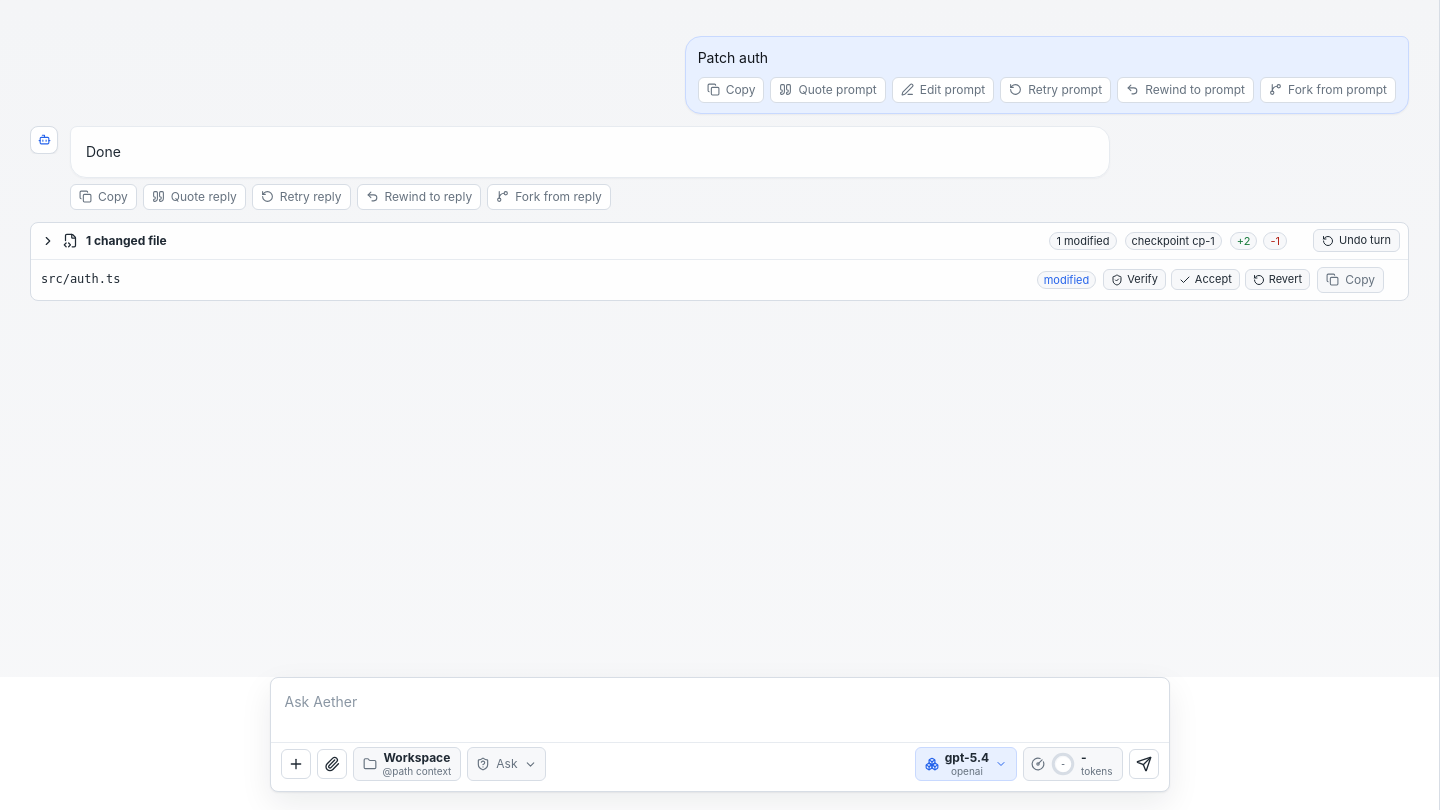
Scenario: ChatView › retries persisted prompts through checkpoint-aware session actions
Expected: the text "Patch auth" is shown, [698,49,768,66]
Click the button "Retry prompt" at (1056, 90), box [1000,77,1111,103]
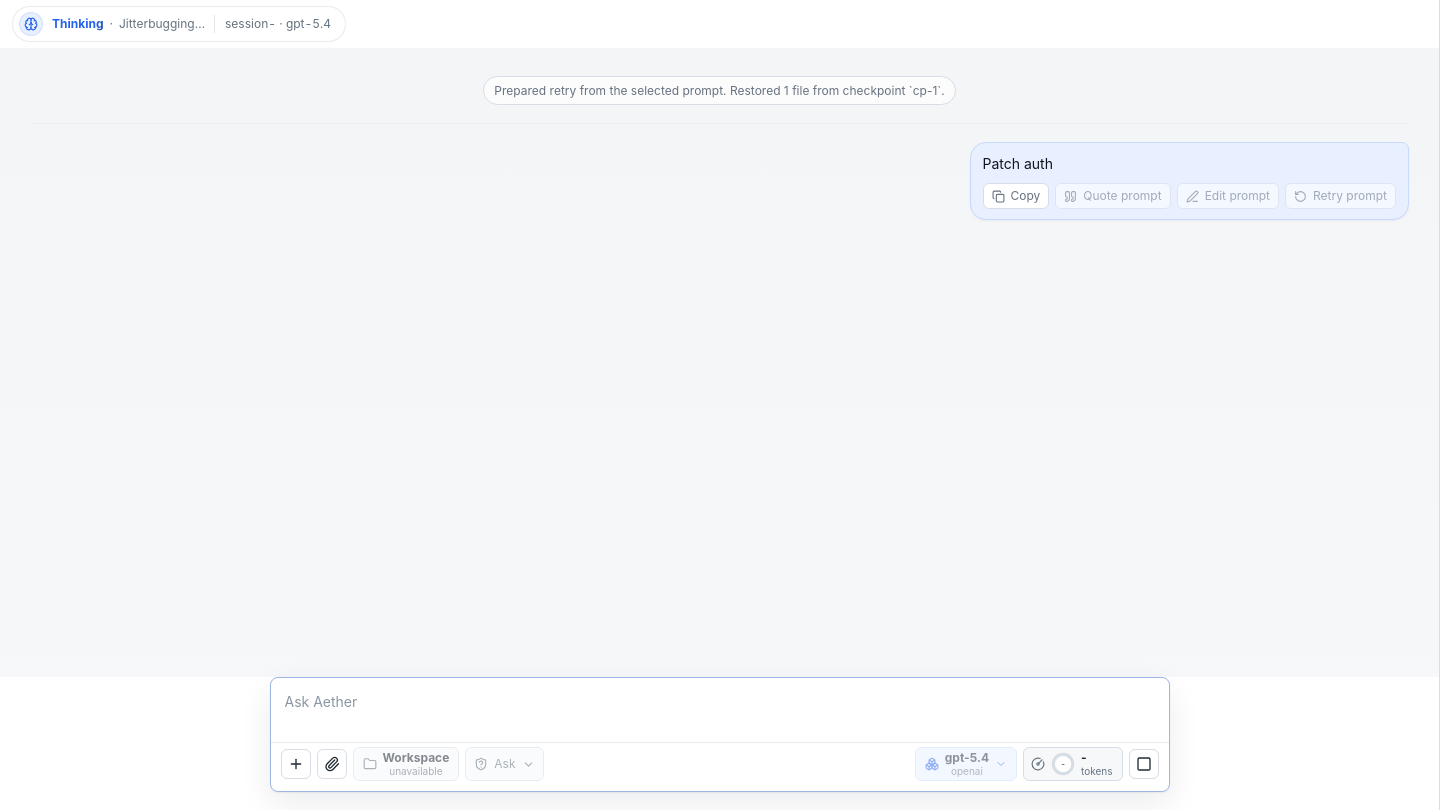
Expected: the text "Restored 1 file from checkpoint `cp-1`" is shown, [494,83,945,98]
